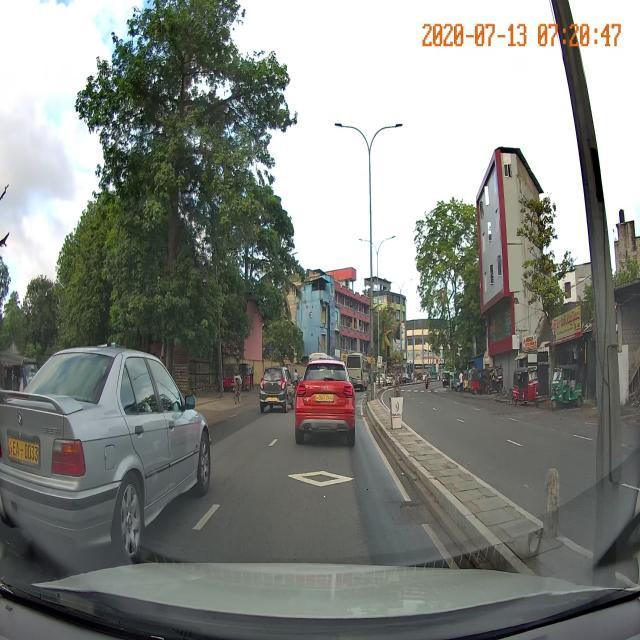diamond: (226, 467, 409, 497)
